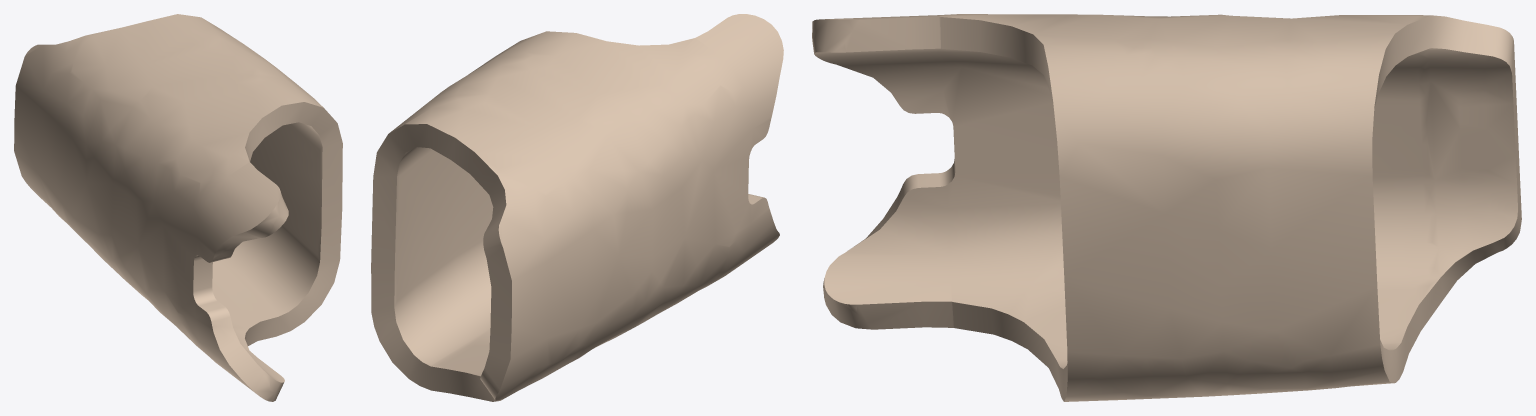
File: r_hand_P_1.obj
3 views of the same model, side by side, from view 1: azimuth 30°, elevation 25°; view 2: azimuth 150°, elevation 25°; view 3: azimuth 270°, elevation 25° (orthographic). The views are drawn at different scales.
Size of the model in its own units: 19.67 by 23.54 by 43.38.
